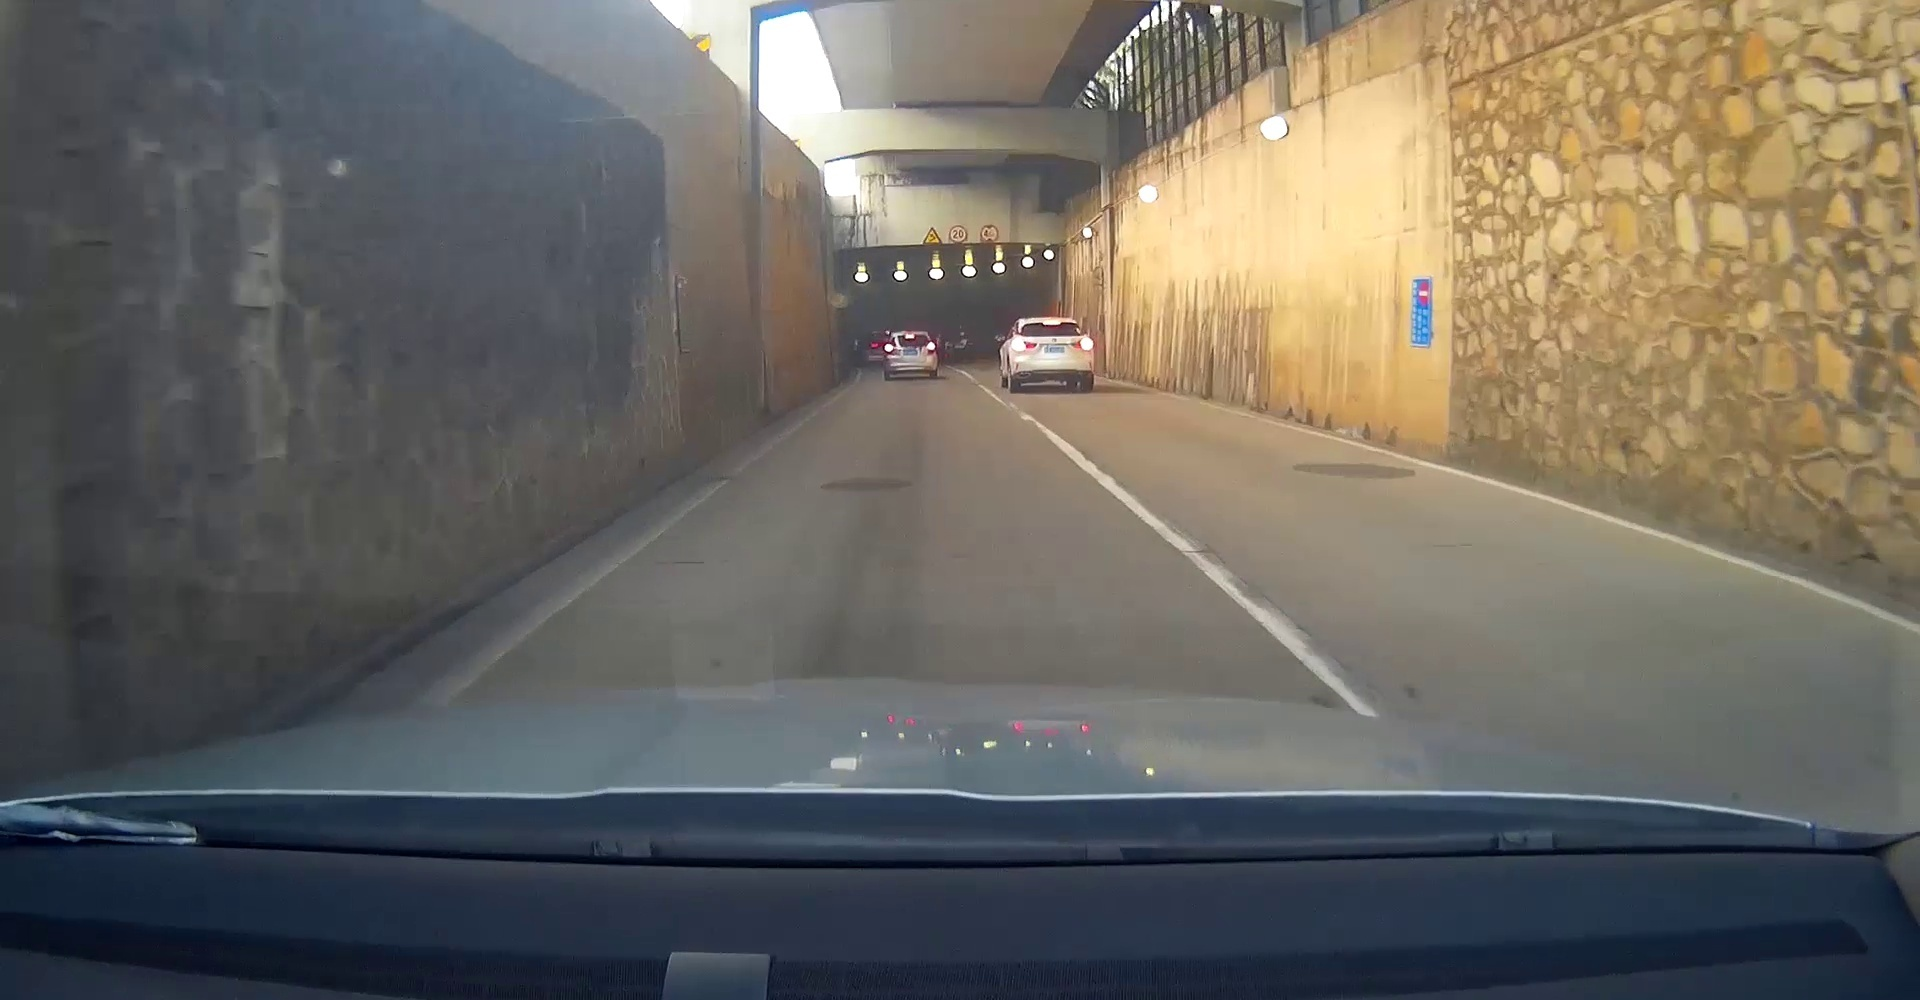L_light: (1012, 340, 1037, 350), (885, 345, 894, 352)
R_light: (1070, 338, 1093, 350), (926, 343, 935, 352)
T_light: (1044, 321, 1062, 325), (905, 335, 916, 338)
day-brake: (1010, 317, 1095, 393), (884, 331, 938, 379)
